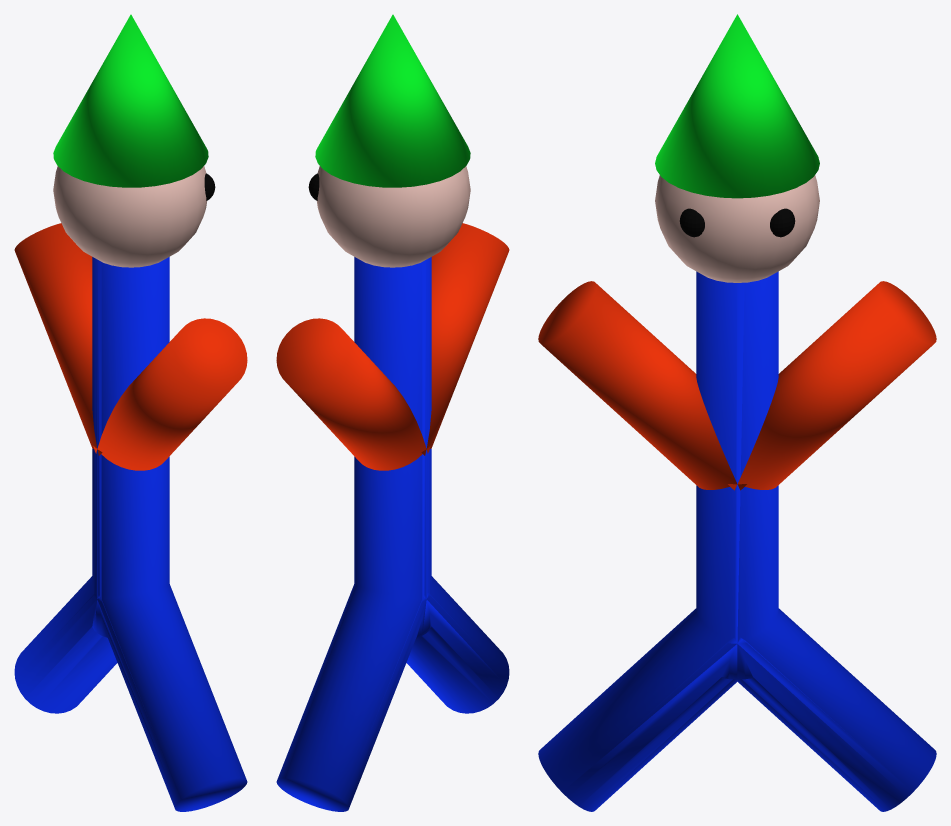
The model's file is publiekpong.fbx.
3 views of the same model, side by side, from view 1: azimuth 30°, elevation 25°; view 2: azimuth 150°, elevation 25°; view 3: azimuth 270°, elevation 25° (orthographic). The views are drawn at different scales.
Parts seen in each view (by area): view 1: Cylinder, Cone, Cylinder.002, Sphere, Cylinder.001; view 2: Cylinder, Cone, Cylinder.001, Sphere, Cylinder.002; view 3: Cylinder, Cylinder.001, Cylinder.002, Cone, Sphere.
Boxes of the visible parts, x1,y1,x2,y2 form: Cylinder: [14, 257, 247, 811]; Cone: [53, 14, 208, 187]; Cylinder.002: [93, 318, 247, 470]; Sphere: [53, 166, 206, 267]; Cylinder.001: [14, 223, 102, 455]; Cylinder: [276, 257, 509, 811]; Cone: [315, 14, 470, 187]; Cylinder.001: [276, 318, 430, 470]; Sphere: [317, 166, 470, 267]; Cylinder.002: [421, 223, 509, 455]; Cylinder: [538, 271, 936, 811]; Cylinder.001: [728, 281, 936, 490]; Cylinder.002: [538, 281, 746, 490]; Cone: [655, 14, 819, 198]; Sphere: [655, 175, 819, 282].
Size of the model in its own units: 200 by 1060 by 483.
